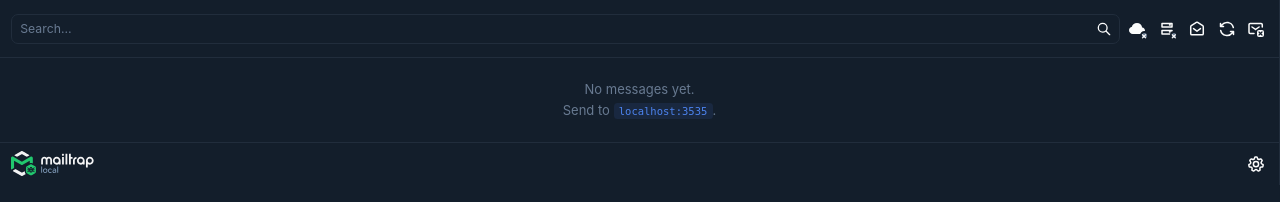
Test: Sidebar › clears previous results as soon as the search query changes
Expected: the text "No messages yet." is shown, x1=584 y1=81 x2=694 y2=97
Step 1. Type "foo" into the field with placeholder "Search…" → (565,28), box x1=10 y1=14 x2=1120 y2=44
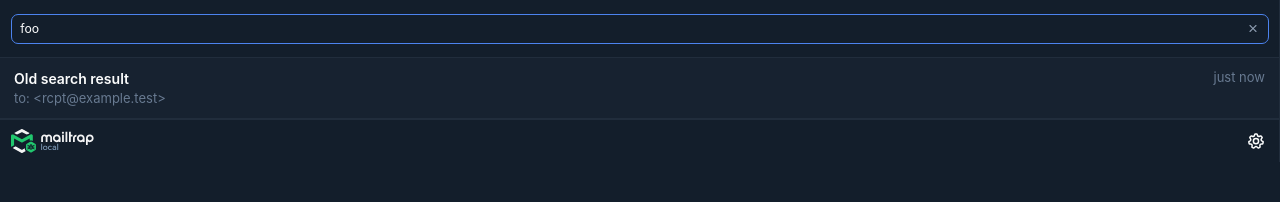
Result: the text "Old search result" is shown at x1=14 y1=70 x2=129 y2=86
Step 2. Type "b" into the field with placeholder "Search…" → (640,28), box x1=10 y1=14 x2=1268 y2=44
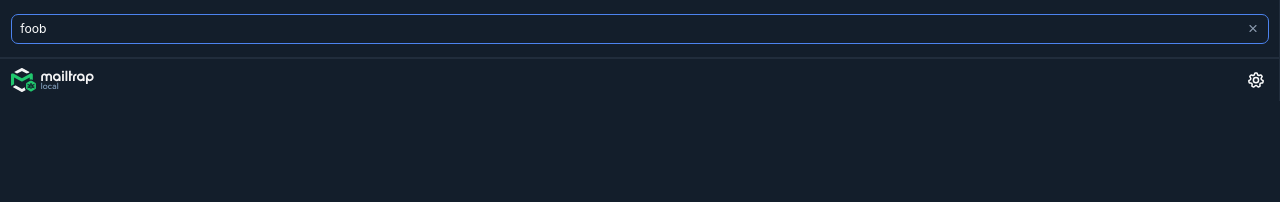
Result: the link "Old search result" is gone
